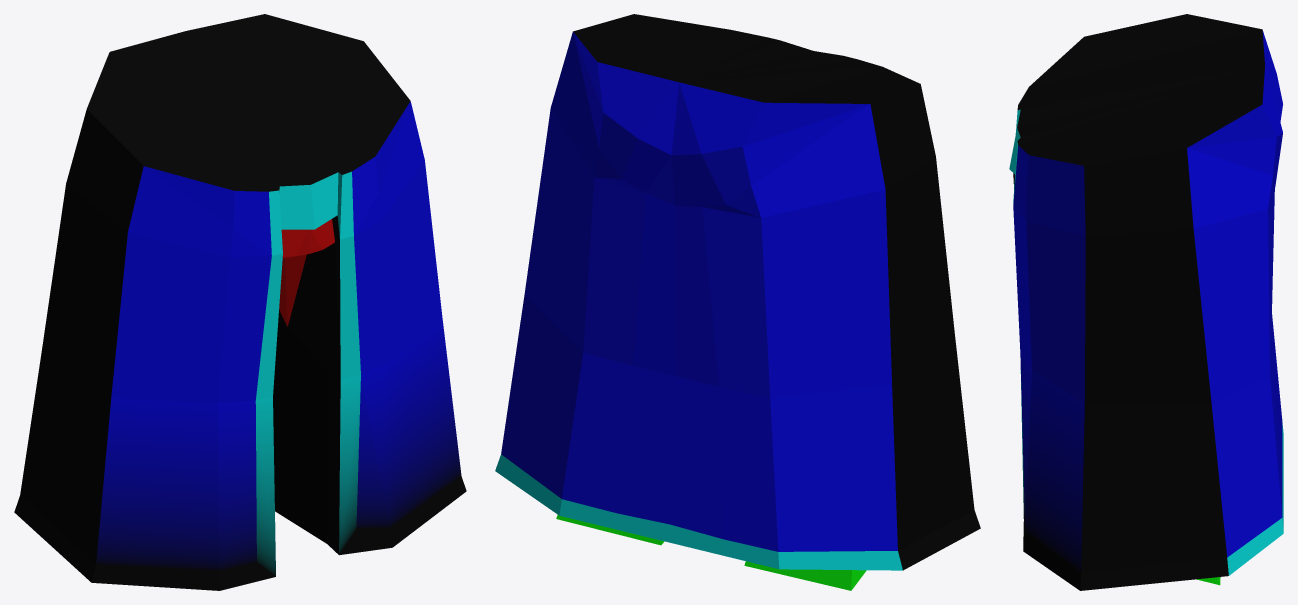
File: Chr_Hips_Male_Static_05.fbx
The picture shows the model from 3 angles, left to right: view 1: azimuth 30°, elevation 25°; view 2: azimuth 150°, elevation 25°; view 3: azimuth 270°, elevation 25°; orthographic projection. The views are drawn at different scales.
Visible parts, largest first — view 1: Chr_Hips_Male_05; view 2: Chr_Hips_Male_05; view 3: Chr_Hips_Male_05.
Part boxes in pixels (x1,y1,x2,y2): Chr_Hips_Male_05: [14, 14, 466, 590]; Chr_Hips_Male_05: [495, 14, 980, 590]; Chr_Hips_Male_05: [1009, 14, 1283, 590].
Size of the model in its own units: 48.28 by 55.45 by 30.45.
